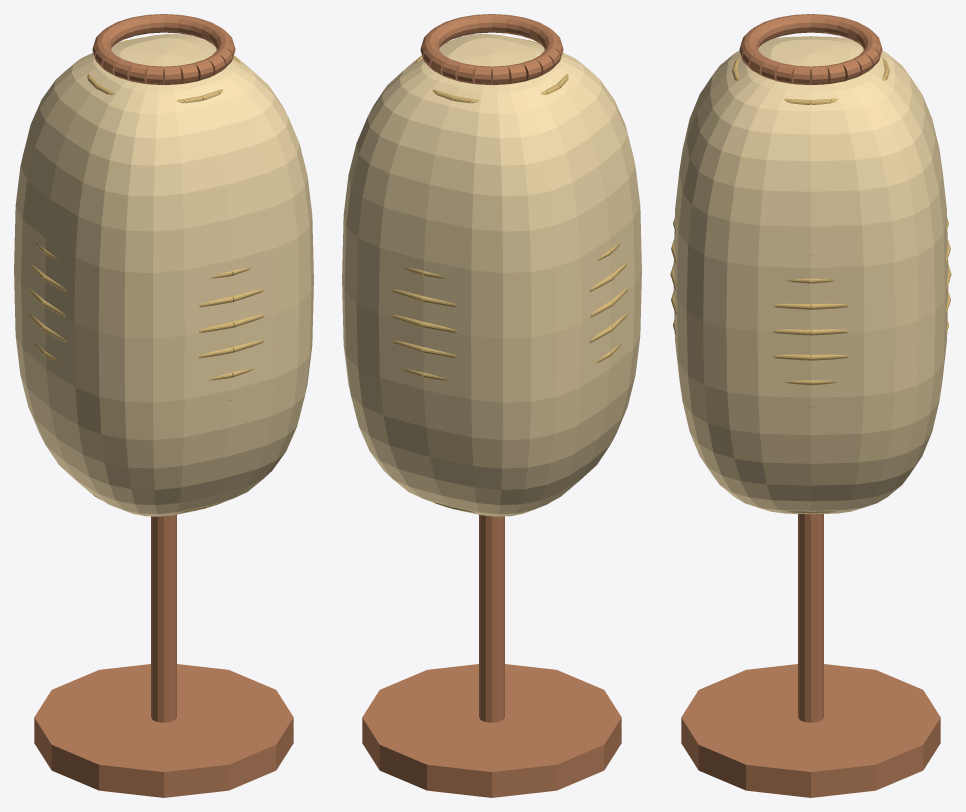
Rendered from rice-paper-floor-lamp.glb.
3 renders of one model, left to right at view 1: azimuth 30°, elevation 25°; view 2: azimuth 150°, elevation 25°; view 3: azimuth 270°, elevation 25°, orthographic.
Visible parts, largest first — view 1: rice-paper-floor-lamp; view 2: rice-paper-floor-lamp; view 3: rice-paper-floor-lamp.
Boxes of the visible parts, <box> form: rice-paper-floor-lamp: <box>14,14,313,797</box>; rice-paper-floor-lamp: <box>342,14,641,797</box>; rice-paper-floor-lamp: <box>670,14,951,797</box>.
Bounding box in the file's own units: 0.5419 × 1.49 × 0.5419.
